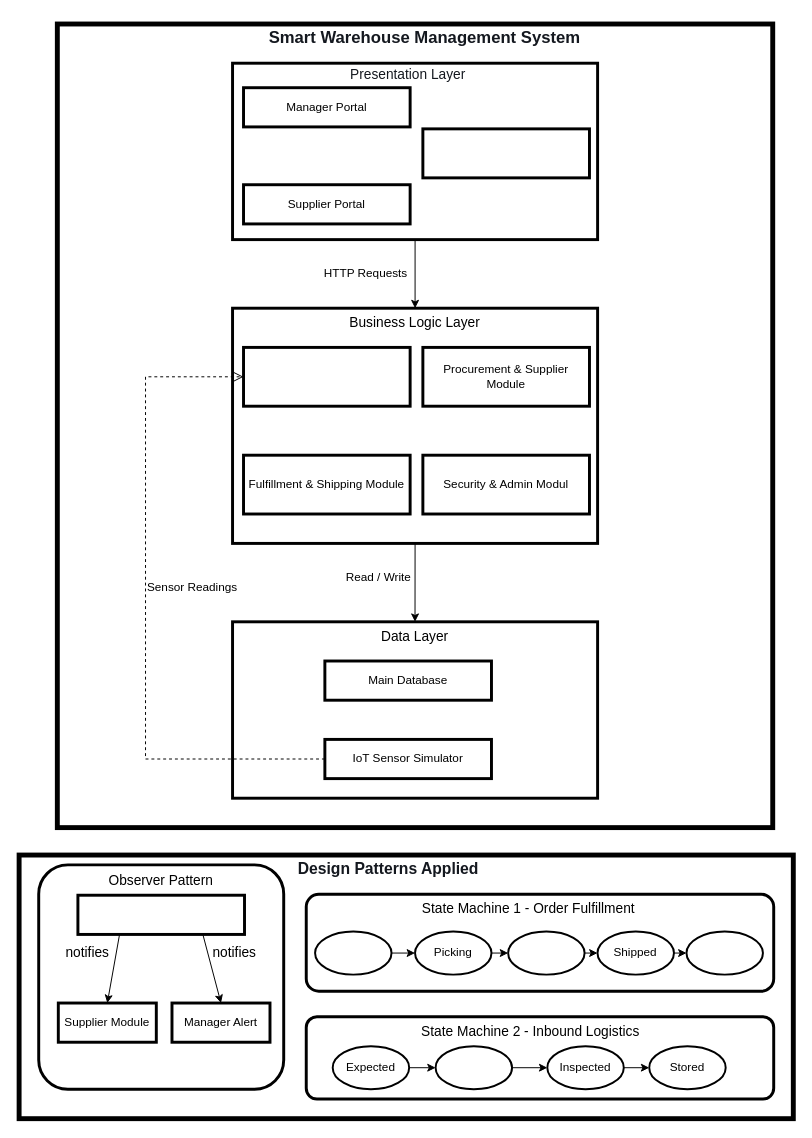
Some shapes in this 812 by 1138 pixel diagram are drawn without their labels. Here are the shapes that lost their labels. From the top down, the centre of each, then its label:
At (505,153): "Floor Staff App (Picker / Packer)".
At (326,376): "Inventory & Storage Module".
At (160,914): "Stock Level Monitor".
At (353,952): "Processing".
At (546,952): "Packing".
At (724,952): "Delived".
At (473,1067): "At Dock".
